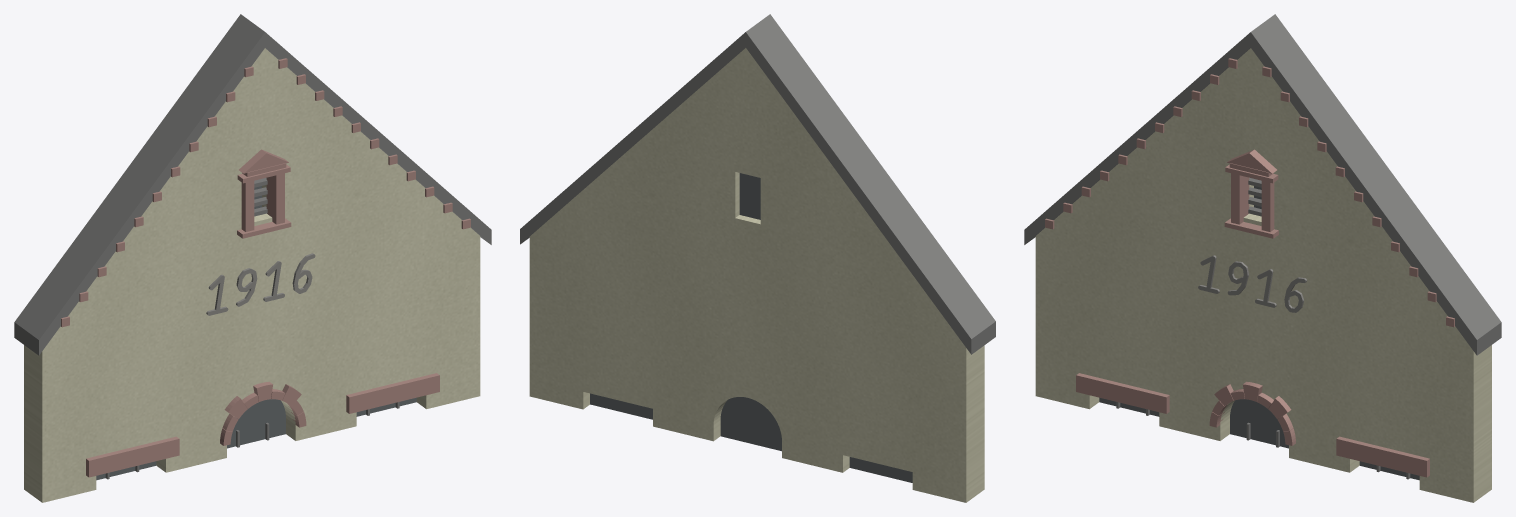
File: jikui-school-1916-gable-near.glb
The picture shows the model from 3 angles, left to right: view 1: azimuth 30°, elevation 25°; view 2: azimuth 150°, elevation 25°; view 3: azimuth 330°, elevation 25°; orthographic projection.
Parts seen in each view (by area): view 1: 缉槼中学教学楼山墙1916纪年与百叶通风口; view 2: 缉槼中学教学楼山墙1916纪年与百叶通风口; view 3: 缉槼中学教学楼山墙1916纪年与百叶通风口.
Boxes of the visible parts, x1=… form: 缉槼中学教学楼山墙1916纪年与百叶通风口: x1=14, y1=14, x2=491, y2=502; 缉槼中学教学楼山墙1916纪年与百叶通风口: x1=520, y1=14, x2=995, y2=502; 缉槼中学教学楼山墙1916纪年与百叶通风口: x1=1024, y1=14, x2=1501, y2=502.
Size of the model in its own units: 3.06 by 2.72 by 0.307.
5 materials, 1 textured.
